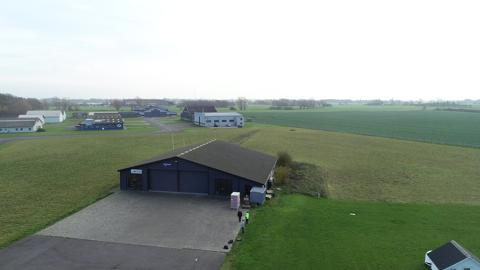RockwoolPallet: (230, 191, 241, 210)
